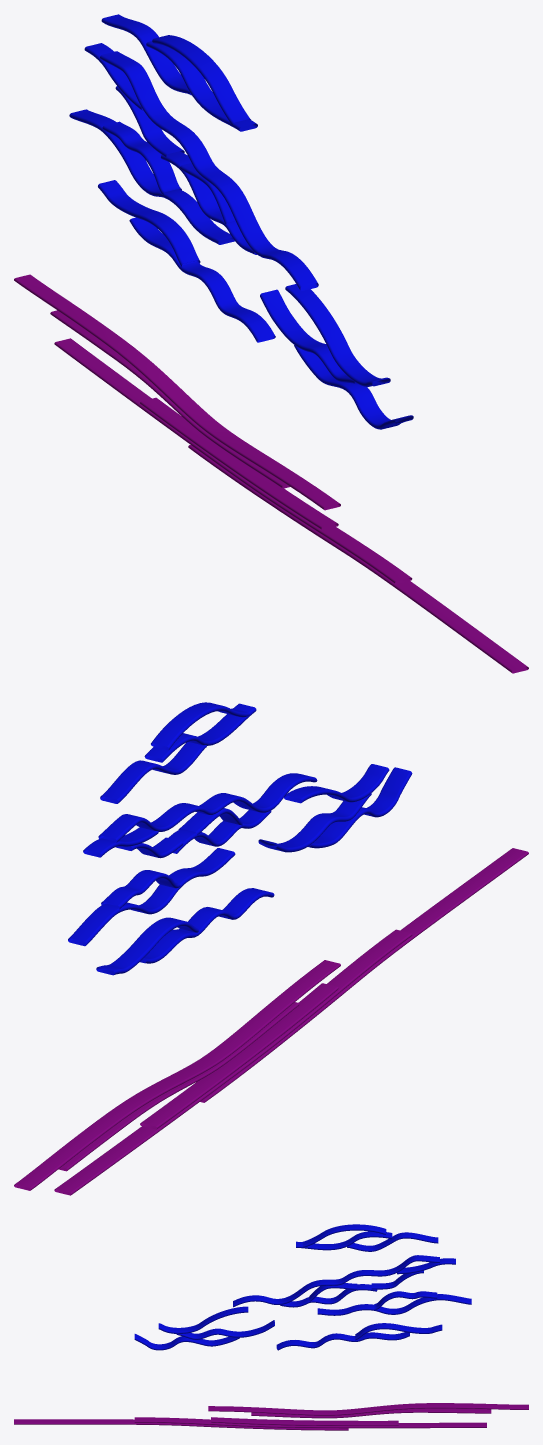
The model's file is Domain second.glb.
3 views of the same model, one above another, from view 1: azimuth 30°, elevation 25°; view 2: azimuth 150°, elevation 25°; view 3: azimuth 270°, elevation 25° (orthographic). The views are drawn at different scales.
Parts seen in each view (by area): view 1: Domain 2, BézierCurve; view 2: Domain 2, BézierCurve; view 3: Domain 2, BézierCurve.
Boxes of the visible parts, <box> form: Domain 2: <box>69,14,413,429</box>; BézierCurve: <box>14,274,528,673</box>; Domain 2: <box>68,702,412,975</box>; BézierCurve: <box>14,848,528,1195</box>; Domain 2: <box>134,1224,471,1350</box>; BézierCurve: <box>14,1403,528,1430</box>.
Bounding box in the file's own units: 0.0026 × 0.0524 × 0.1207.
